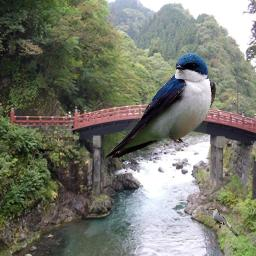Cuckoo: (206, 208, 239, 237)
Swallow: (104, 52, 216, 160)
